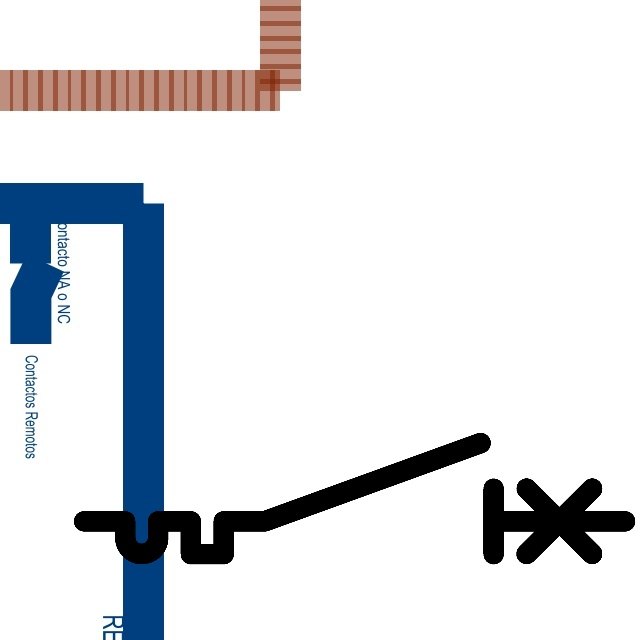interruptor_termomagnetico: (70, 429, 639, 568)
